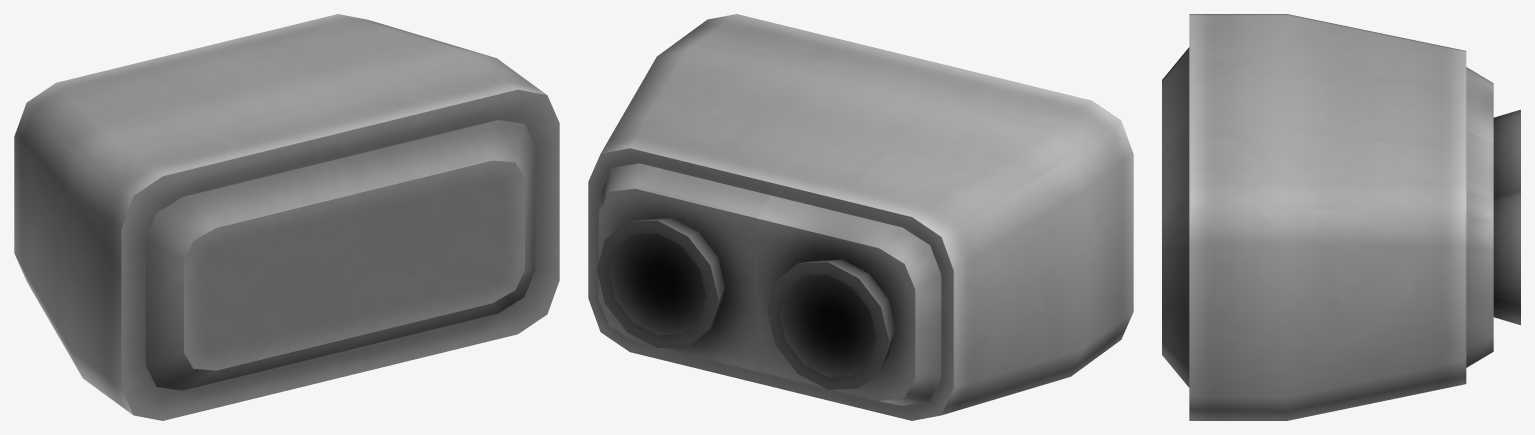
Rendered from Tantares_MOE_5_E.obj.
3 views of the same model, side by side, from view 1: azimuth 30°, elevation 25°; view 2: azimuth 150°, elevation 25°; view 3: azimuth 270°, elevation 25° (orthographic). The views are drawn at different scales.
Parts seen in each view (by area): view 1: Tantares_MOE_5_E; view 2: Tantares_MOE_5_E; view 3: Tantares_MOE_5_E.
Part boxes in pixels (box(x1,y1,x2,y2)): Tantares_MOE_5_E: box(14, 14, 559, 420); Tantares_MOE_5_E: box(588, 14, 1133, 420); Tantares_MOE_5_E: box(1162, 14, 1520, 420).
Bounding box in the file's own units: 0.225 × 0.12 × 0.165.
